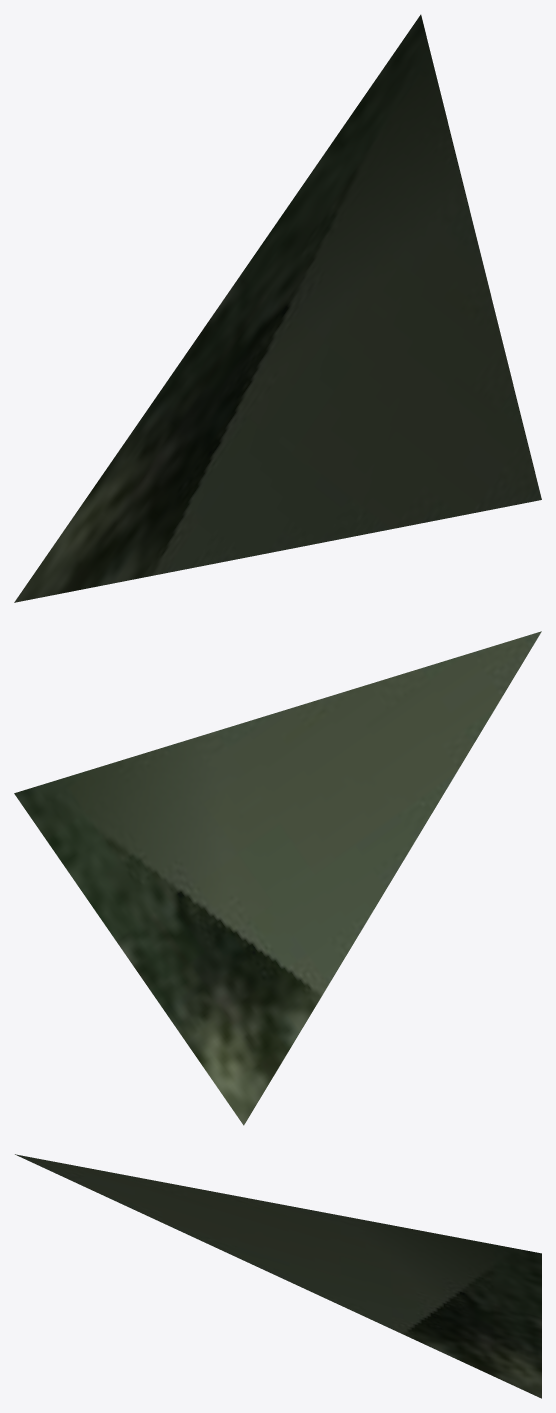
The picture shows the model from 3 angles, top to bottom: view 1: azimuth 30°, elevation 25°; view 2: azimuth 150°, elevation 25°; view 3: azimuth 270°, elevation 25°; orthographic projection. The views are drawn at different scales.
Size of the model in its own units: 0.7861 by 0.9033 by 1.77.
Materials: 1 (1 with a texture image).
